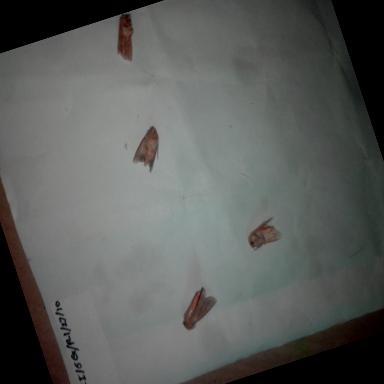abw: (118, 110, 176, 182), (170, 278, 231, 346), (98, 10, 152, 72), (238, 210, 290, 260)
